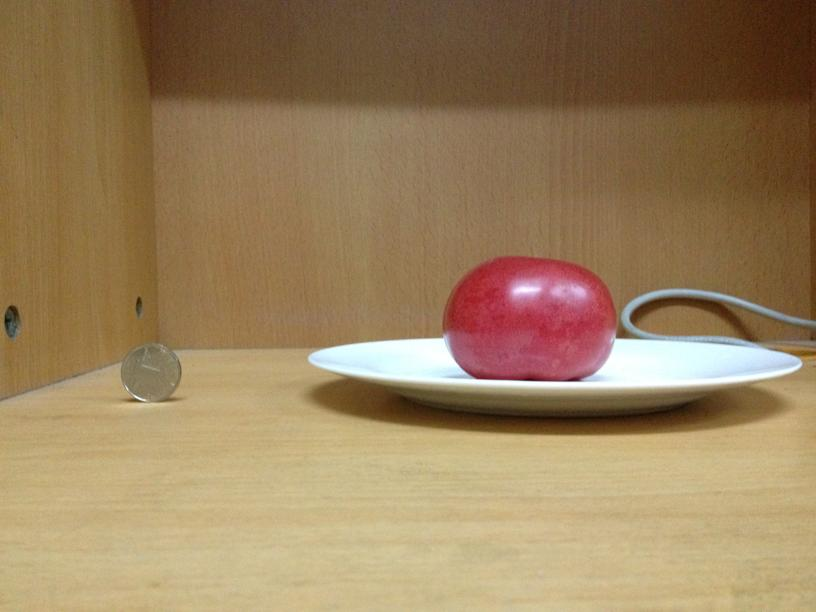coin: (116, 343, 183, 403)
tomato: (433, 255, 615, 377)
